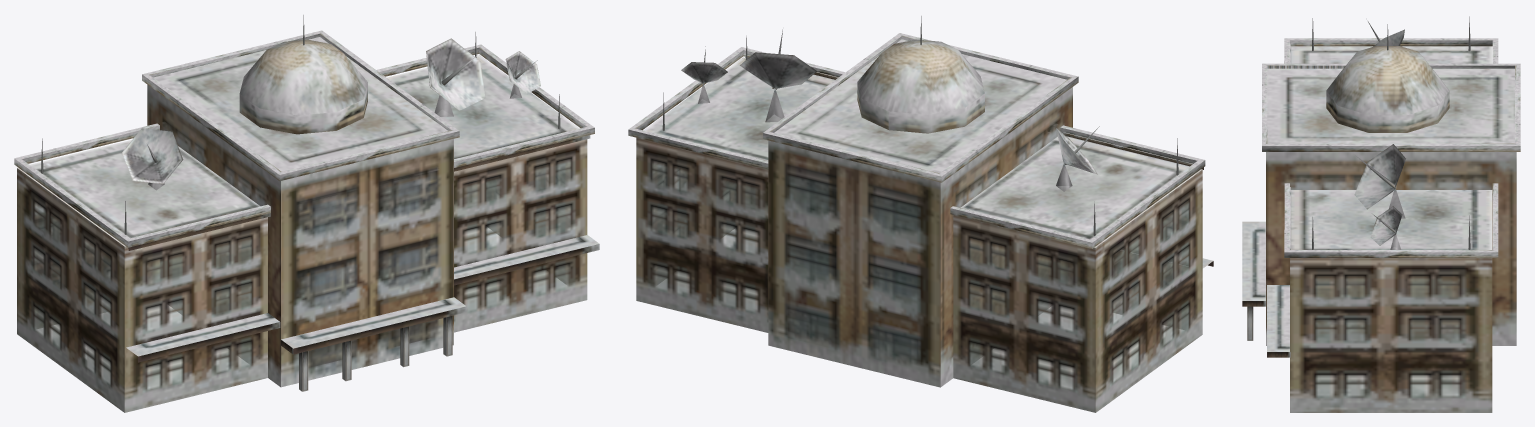
File: Civilian - Civilian Building - Soviet Radio Building - Snow and Night - CBSovRdio_SN.glb
3 views of the same model, side by side, from view 1: azimuth 30°, elevation 25°; view 2: azimuth 150°, elevation 25°; view 3: azimuth 270°, elevation 25° (orthographic). The views are drawn at different scales.
Visible parts, largest first — view 1: CBSOVRDIO_SN; view 2: CBSOVRDIO_SN; view 3: CBSOVRDIO_SN.
Boxes of the visible parts, x1,y1,x2,y2 form: CBSOVRDIO_SN: (14,15,599,412); CBSOVRDIO_SN: (628,16,1213,412); CBSOVRDIO_SN: (1242,16,1520,412).
Size of the model in its own units: 126 by 78.08 by 68.81.
Materials: 1 (1 with a texture image).
